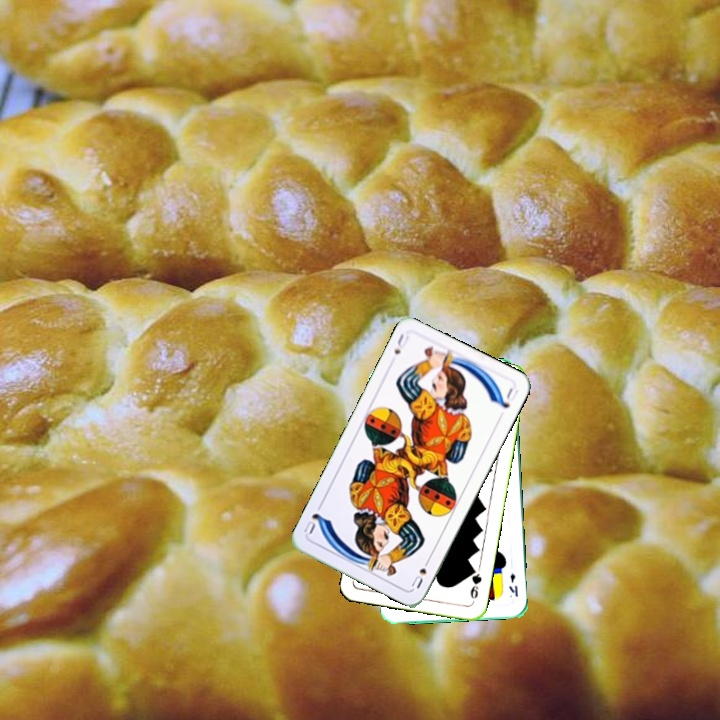EK: (505, 569, 521, 599)
G9: (466, 564, 484, 601)
SU: (407, 553, 433, 591), (390, 329, 411, 357)
